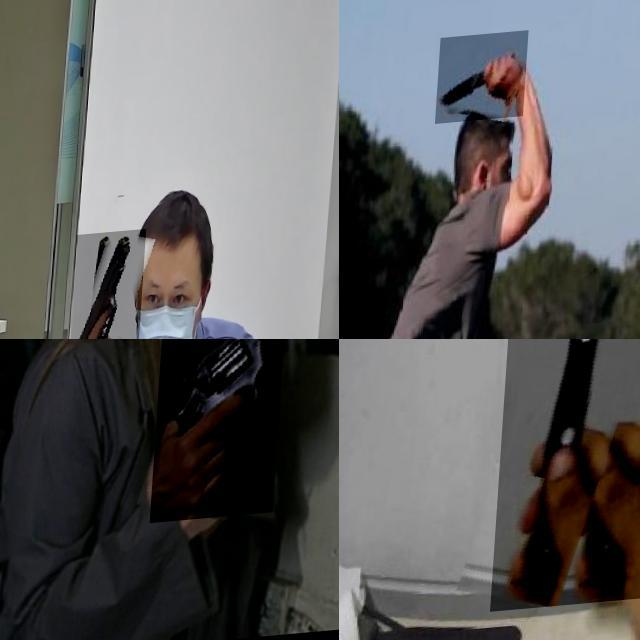-: (498, 339, 640, 624), (439, 35, 532, 128)
gun-knife-thesis - v11 Yolov5 augmented: (156, 339, 292, 526), (72, 235, 150, 339)
